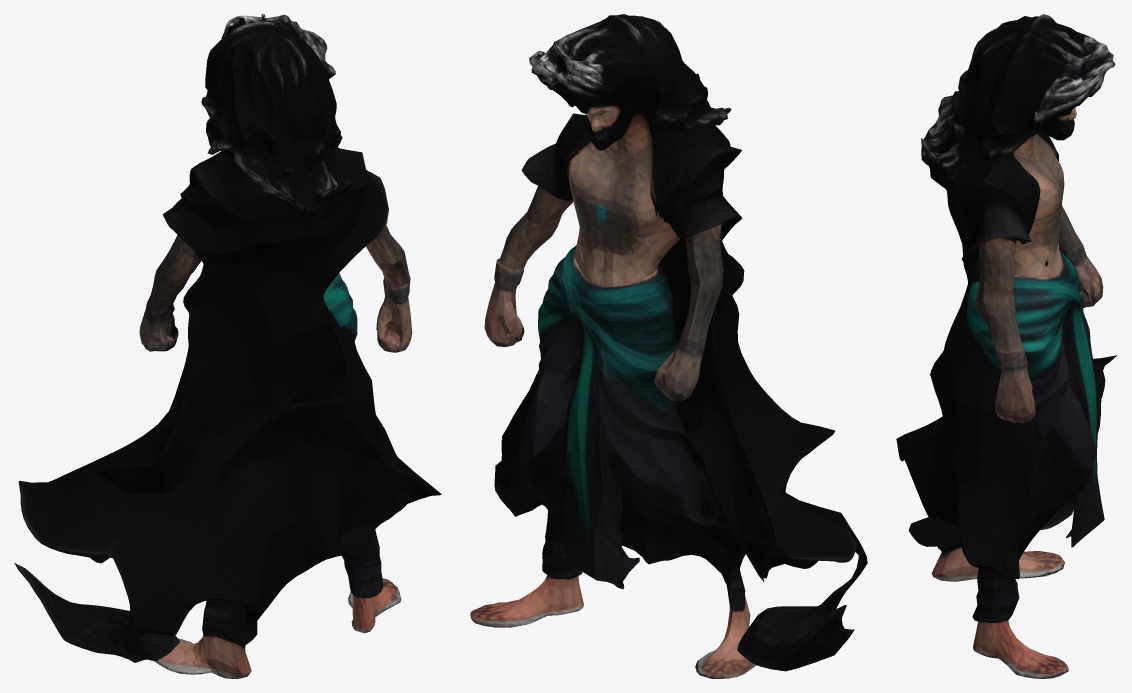
Rendered from shah.glb.
The picture shows the model from 3 angles, left to right: view 1: azimuth 30°, elevation 25°; view 2: azimuth 150°, elevation 25°; view 3: azimuth 270°, elevation 25°; orthographic projection. The views are drawn at different scales.
Visible parts, largest first — view 1: shah-black; view 2: shah-black; view 3: shah-black.
Boxes of the visible parts, x1,y1,x2,y2 form: shah-black: (14,14,441,678); shah-black: (470,14,867,678); shah-black: (896,14,1116,678).
Size of the model in its own units: 0.9405 by 1.44 by 0.4853.
1 material, 1 textured.
